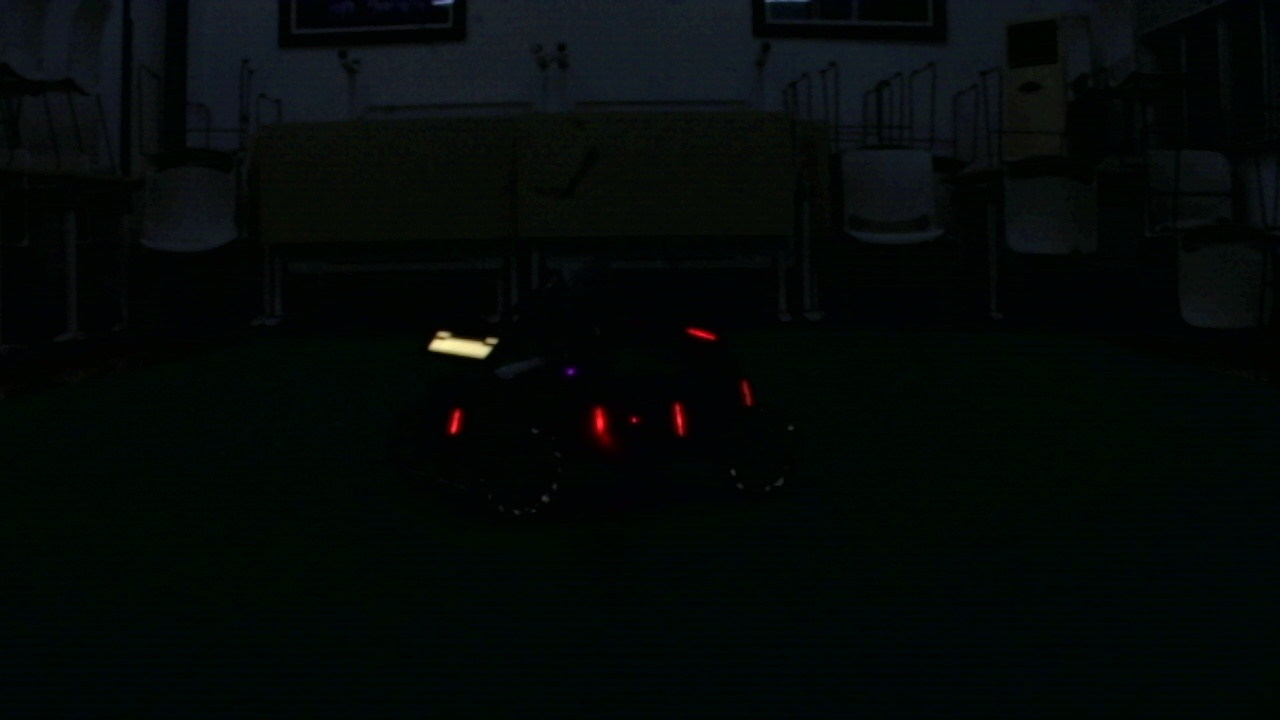lamp: (589, 397, 610, 437), (445, 398, 464, 440), (670, 400, 686, 437)
pair1: (594, 407, 686, 438)
